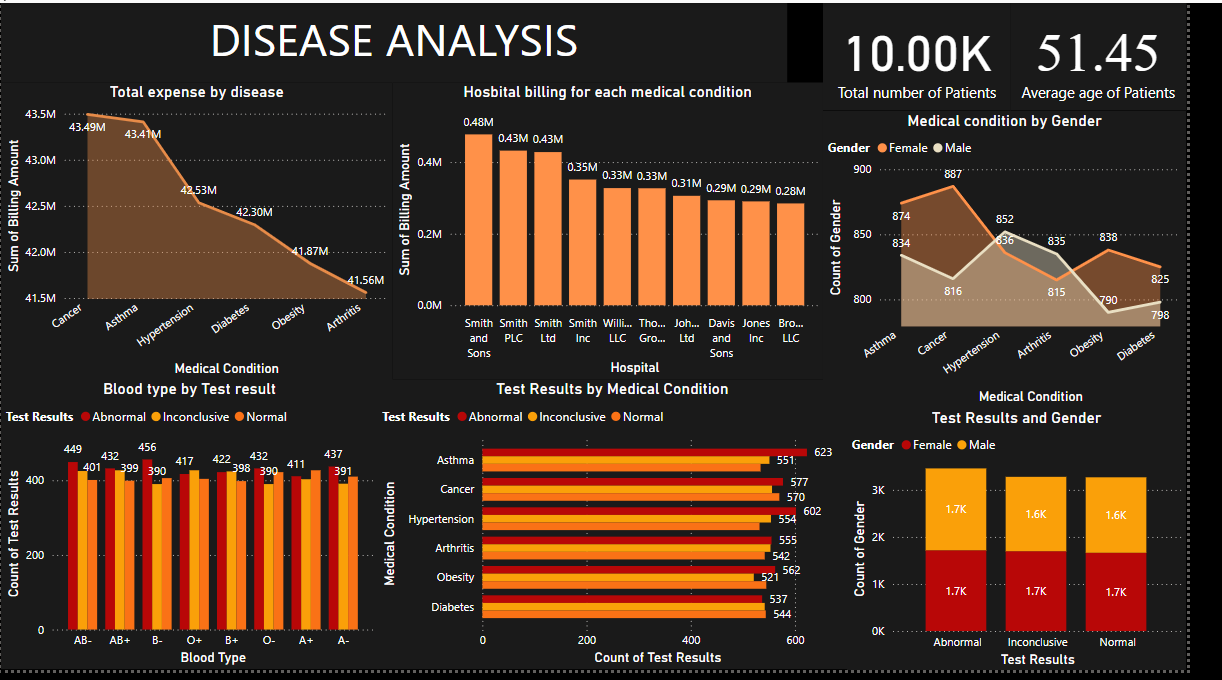

The dashboard page shown, as its layout file describes it:
{"tool":"powerbi","page":{"name":"Disease Analysis","canvas":[1280,720],"ordinal":1},"visuals":[{"type":"card","title":"Average age of Patients","fields":{"Values":["CountNonNull(healthcare_dataset.Gender)"]},"box":[887.1,0,202.9,115.7],"z":0},{"type":"card","title":"Average age of Patients","fields":{"Values":["Avg(healthcare_dataset.Age)"]},"box":[1090.2,0,189.8,115.9],"z":1000},{"type":"textbox","box":[0,0,848.5,85.8],"z":2000},{"type":"areaChart","title":"Total expense by disease","fields":{"Category":["healthcare_dataset.Medical Condition"],"Y":["Sum(healthcare_dataset.Billing Amount)"]},"box":[0,85.7,422.9,321.4],"z":3000},{"type":"clusteredColumnChart","title":"Blood type by Test result","fields":{"Category":["healthcare_dataset.Blood Type"],"Series":["healthcare_dataset.Test Results"],"Y":["CountNonNull(healthcare_dataset.Test Results)"]},"box":[0,407.1,407.1,312.9],"z":4000},{"type":"areaChart","title":"Medical condition by Gender","fields":{"Category":["healthcare_dataset.Medical Condition"],"Y":["CountNonNull(healthcare_dataset.Gender)"],"Series":["healthcare_dataset.Gender"]},"box":[887.3,116.6,391.9,320.6],"z":5000},{"type":"columnChart","title":"Test Results and Gender","fields":{"Category":["healthcare_dataset.Test Results"],"Y":["CountNonNull(healthcare_dataset.Gender)"],"Series":["healthcare_dataset.Gender"]},"box":[913.8,436.7,366.2,283.9],"z":6000},{"type":"clusteredBarChart","title":"Test Results by Medical Condition ","fields":{"Category":["healthcare_dataset.Medical Condition"],"Y":["CountNonNull(healthcare_dataset.Test Results)"],"Series":["healthcare_dataset.Test Results"]},"box":[407.1,407.1,507.1,312.9],"z":7000},{"type":"clusteredColumnChart","title":"Hosbital billing for each medical condition","fields":{"Category":["healthcare_dataset.Hospital"],"Y":["Sum(healthcare_dataset.Billing Amount)"]},"box":[422.6,85.8,464.7,320.6],"z":8000}]}

Visuals, with their boxes in screenshot pixels (x1, y1, x2, y2), scaled from the page's 1280x720 canvas onto the 1222x680 screenshot:
"Average age of Patients" card: bbox=[847, 0, 1041, 109]
"Average age of Patients" card: bbox=[1041, 0, 1221, 109]
textbox: bbox=[0, 0, 810, 81]
"Total expense by disease" areaChart: bbox=[0, 81, 404, 384]
"Blood type by Test result" clusteredColumnChart: bbox=[0, 384, 389, 679]
"Medical condition by Gender" areaChart: bbox=[847, 110, 1221, 413]
"Test Results and Gender" columnChart: bbox=[872, 412, 1221, 679]
"Test Results by Medical Condition " clusteredBarChart: bbox=[389, 384, 873, 679]
"Hosbital billing for each medical condition" clusteredColumnChart: bbox=[403, 81, 847, 384]
